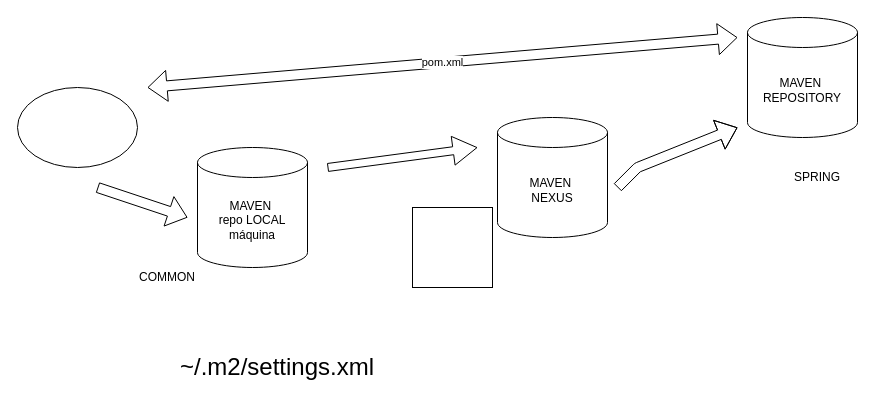
Some shapes in this 875 by 399 pixel diagram are drawn without their labels. The centre of each missing label's shape, as x and y in pixels:
MI MICROSERVICO MI APP: the point at 77,127
PROYECTOS DE INDRA: the point at 452,247
